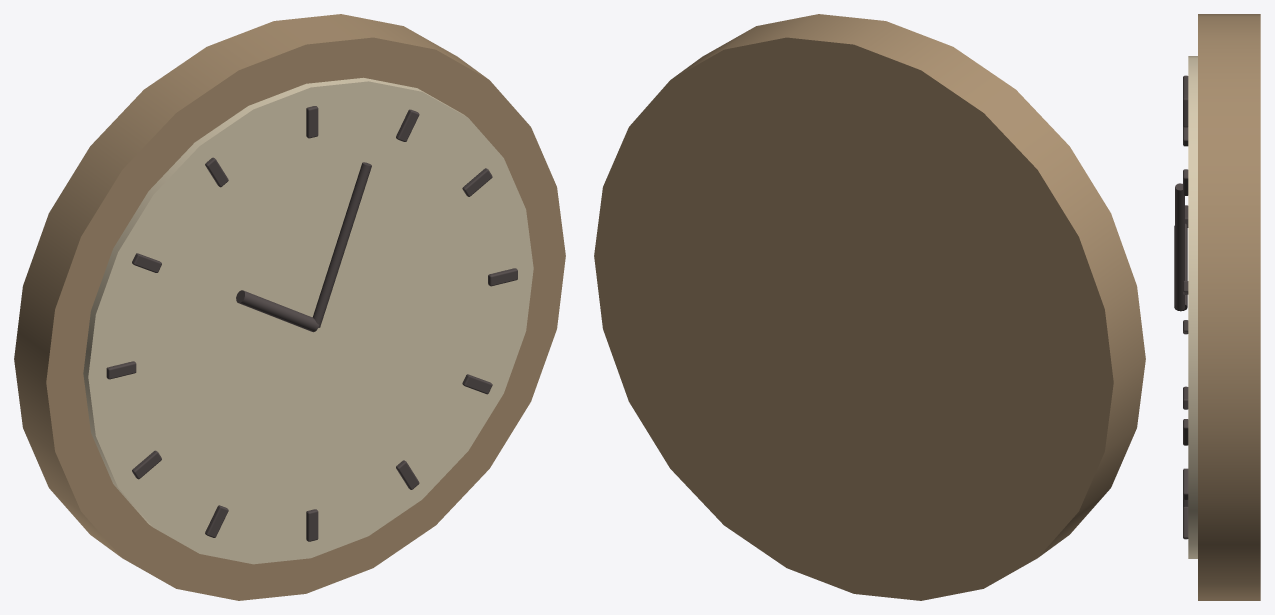
Rendered from wallclock.glb.
The picture shows the model from 3 angles, left to right: view 1: azimuth 30°, elevation 25°; view 2: azimuth 150°, elevation 25°; view 3: azimuth 270°, elevation 25°; orthographic projection. The views are drawn at different scales.
Parts seen in each view (by area): view 1: inset-clock-face, clock-case, minute-hand, hour-hand; view 2: clock-case; view 3: clock-case, inset-clock-face, minute-hand, hour-hand, hour-0, hour-5, hour-4, hour-1, hour-7.
Part boxes in pixels (left/top/right/bottom): inset-clock-face: left=83, top=77, right=533, bottom=564; clock-case: left=14, top=14, right=565, bottom=600; minute-hand: left=312, top=162, right=371, bottom=327; hour-hand: left=236, top=290, right=318, bottom=332; clock-case: left=594, top=14, right=1145, bottom=600; clock-case: left=1198, top=14, right=1260, bottom=600; inset-clock-face: left=1188, top=56, right=1197, bottom=558; minute-hand: left=1175, top=183, right=1184, bottom=310; hour-hand: left=1174, top=223, right=1187, bottom=311; hour-0: left=1183, top=94, right=1188, bottom=127; hour-5: left=1183, top=506, right=1188, bottom=539; hour-4: left=1183, top=468, right=1188, bottom=499; hour-1: left=1183, top=169, right=1188, bottom=195; hour-7: left=1183, top=419, right=1188, bottom=445.
Bounding box in the file's own units: 0.7 × 0.7071 × 0.1035.
